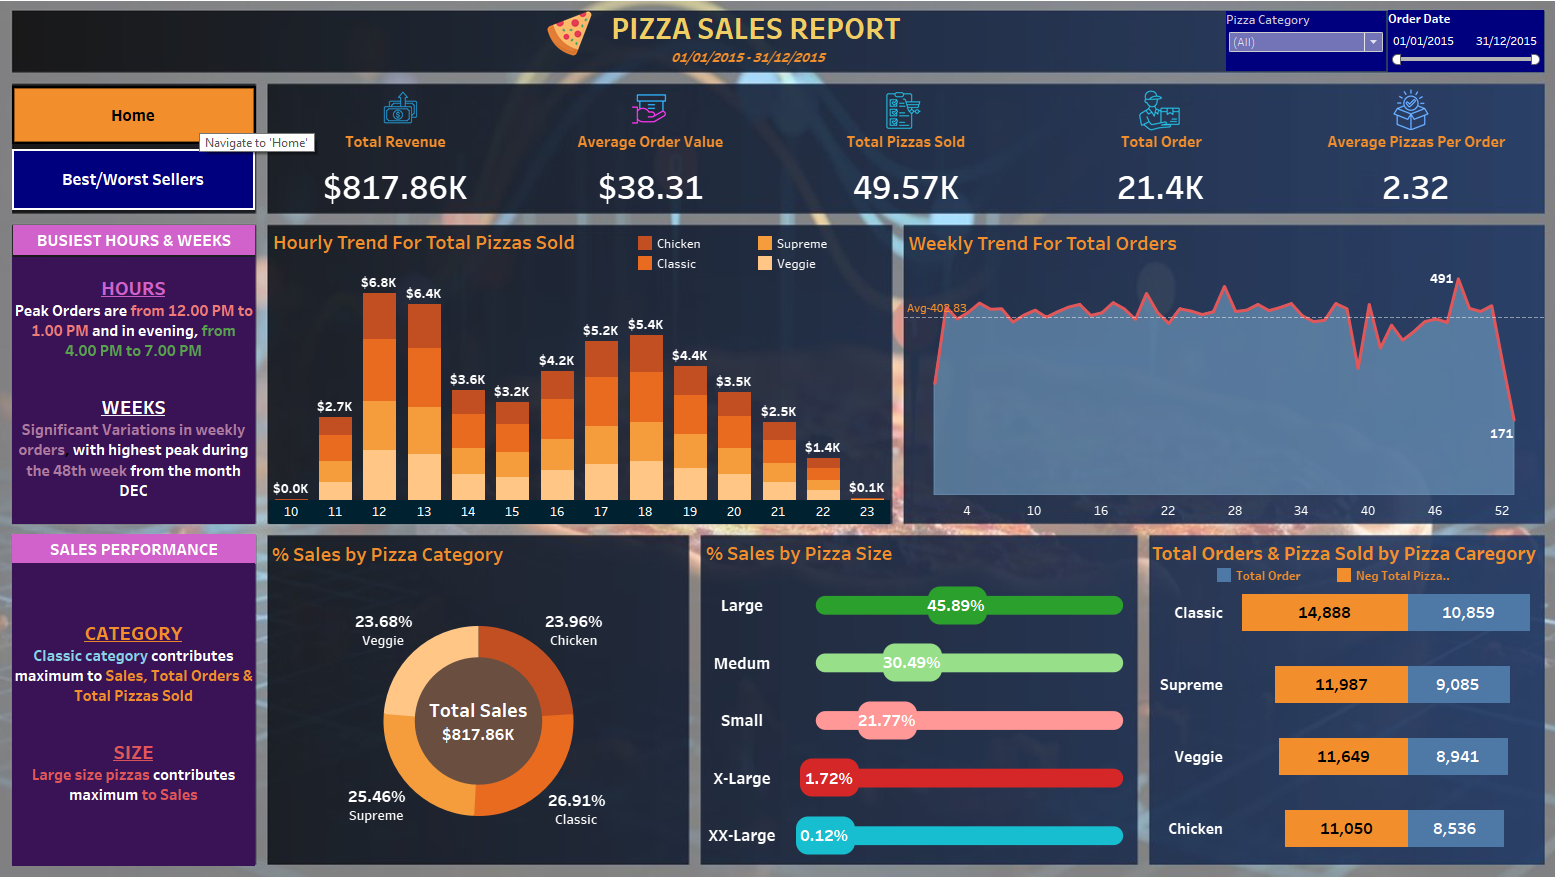

The dashboard page shown, as its layout file describes it:
{"tool":"tableau","page":{"name":"Home","canvas":[1600,900],"ordinal":1},"visuals":[{"type":"image","param":"D:/Tableau _ SQL Project/Pizza Tableau 1.jpg","box":[8,8,1584,884]},{"type":"text","box":[517,8,520,60]},{"type":"image","param":"D:/Tableau _ SQL Project/Pizza Sales Images/pizza-slice.png","box":[567,21,68,46]},{"type":"filter","title":"Hourly Trend For Total Pizzas Sold","param":"[federated.0orc0ql1sjlkgq17ms7ec14iokdn].[none:order_date:qk]","box":[1409,21,156,62]},{"type":"filter","title":"Weekly Trend For Total Orders","param":"[federated.0orc0ql1sjlkgq17ms7ec14iokdn].[none:pizza_category:nk]","box":[1247,22,160,60]},{"type":"worksheet","title":"Sheet 7","mark":"Automatic","box":[610,52,320,32]},{"type":"dashboard-object","box":[33,97,244,58]},{"type":"image","param":"D:/Tableau _ SQL Project/Pizza Sales Images/profit-growth.png","box":[402,99,66,38]},{"type":"image","param":"D:/Tableau _ SQL Project/Pizza Sales Images/shipping-box.png","box":[650,100,69,39]},{"type":"image","param":"D:/Tableau _ SQL Project/Pizza Sales Images/delivery-man.png","box":[1159,100,63,42]},{"type":"image","param":"D:/Tableau _ SQL Project/Pizza Sales Images/order (1).png","box":[1411,100,56,41]},{"type":"image","param":"D:/Tableau _ SQL Project/Pizza Sales Images/order-delivery.png","box":[905,102,53,38]},{"type":"worksheet","title":"KPI","mark":"Automatic","box":[289,134,1276,91]},{"type":"dashboard-object","box":[33,160,243,61]},{"type":"worksheet","title":"Hourly Trend For Total Pizzas Sold","mark":"Bar","rows":["Calculation_653584903101046787","Calculation_653584903101046787"],"cols":["order_time"],"box":[290,235,621,300]},{"type":"text","box":[34,236,242,30]},{"type":"worksheet","title":"Weekly Trend For Total Orders","mark":"Area","rows":["Calculation_653584903099961345","Calculation_653584903099961345"],"cols":["order_date"],"box":[925,236,640,299]},{"type":"legend","title":"Hourly Trend For Total Pizzas Sold","param":"[federated.0orc0ql1sjlkgq17ms7ec14iokdn].[none:pizza_category:nk]","box":[656,244,255,55]},{"type":"text","box":[33,268,243,267]},{"type":"text","box":[33,545,244,30]},{"type":"worksheet","title":"% Sales by Pizza Size","mark":"Line","rows":["pizza_size"],"box":[723,546,436,329]},{"type":"worksheet","title":"Total Orders & Pizza Sold by Pizza Caregory","mark":"Automatic","rows":["pizza_category"],"box":[1169,546,396,329]},{"type":"worksheet","title":"% Sales by Pizza Category","mark":"Pie","rows":["Calculation_419397722556973063","Calculation_419397722556973063"],"box":[289,547,421,329]},{"type":"text","box":[33,574,243,303]},{"type":"legend","title":"Total Orders & Pizza Sold by Pizza Caregory","param":"[federated.0orc0ql1sjlkgq17ms7ec14iokdn].[:Measure Names]","box":[1235,576,259,31]}]}

Visuals, with their boxes in screenshot pixels (x1, y1, x2, y2), scaled from the page's 1600x900 canvas onto the 1555x878 screenshot:
image: left=8, top=8, right=1547, bottom=870
text: left=502, top=8, right=1008, bottom=66
image: left=551, top=20, right=617, bottom=65
"Hourly Trend For Total Pizzas Sold" filter: left=1369, top=20, right=1521, bottom=81
"Weekly Trend For Total Orders" filter: left=1212, top=21, right=1367, bottom=80
"Sheet 7" worksheet: left=593, top=51, right=904, bottom=82
dashboard-object: left=32, top=95, right=269, bottom=151
image: left=391, top=97, right=455, bottom=134
image: left=632, top=98, right=699, bottom=136
image: left=1126, top=98, right=1188, bottom=139
image: left=1371, top=98, right=1426, bottom=138
image: left=880, top=100, right=931, bottom=137
"KPI" worksheet: left=281, top=131, right=1521, bottom=220
dashboard-object: left=32, top=156, right=268, bottom=216
"Hourly Trend For Total Pizzas Sold" worksheet (Bar marks): left=282, top=229, right=885, bottom=522
text: left=33, top=230, right=268, bottom=259
"Weekly Trend For Total Orders" worksheet (Area marks): left=899, top=230, right=1521, bottom=522
"Hourly Trend For Total Pizzas Sold" legend: left=638, top=238, right=885, bottom=292
text: left=32, top=261, right=268, bottom=522
text: left=32, top=532, right=269, bottom=561
"% Sales by Pizza Size" worksheet (Line marks): left=703, top=533, right=1126, bottom=854
"Total Orders & Pizza Sold by Pizza Caregory" worksheet: left=1136, top=533, right=1521, bottom=854
"% Sales by Pizza Category" worksheet (Pie marks): left=281, top=534, right=690, bottom=855
text: left=32, top=560, right=268, bottom=856
"Total Orders & Pizza Sold by Pizza Caregory" legend: left=1200, top=562, right=1452, bottom=592
